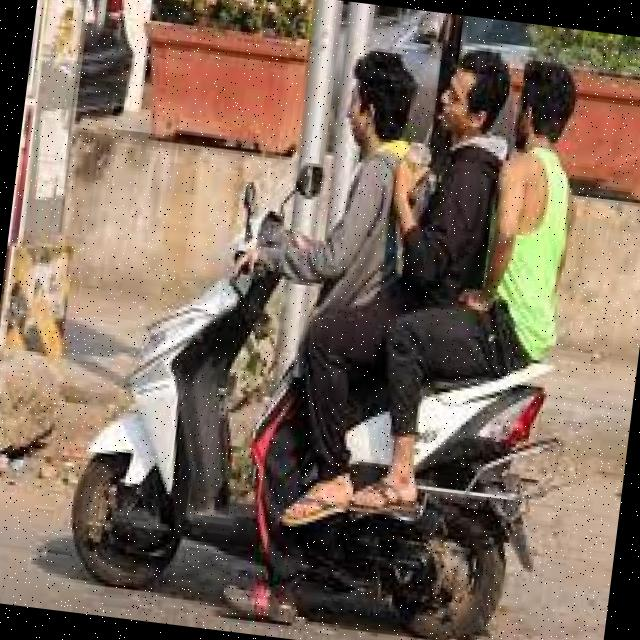No helmet: (336, 45, 430, 165)
Triple riding: (298, 37, 596, 446)
